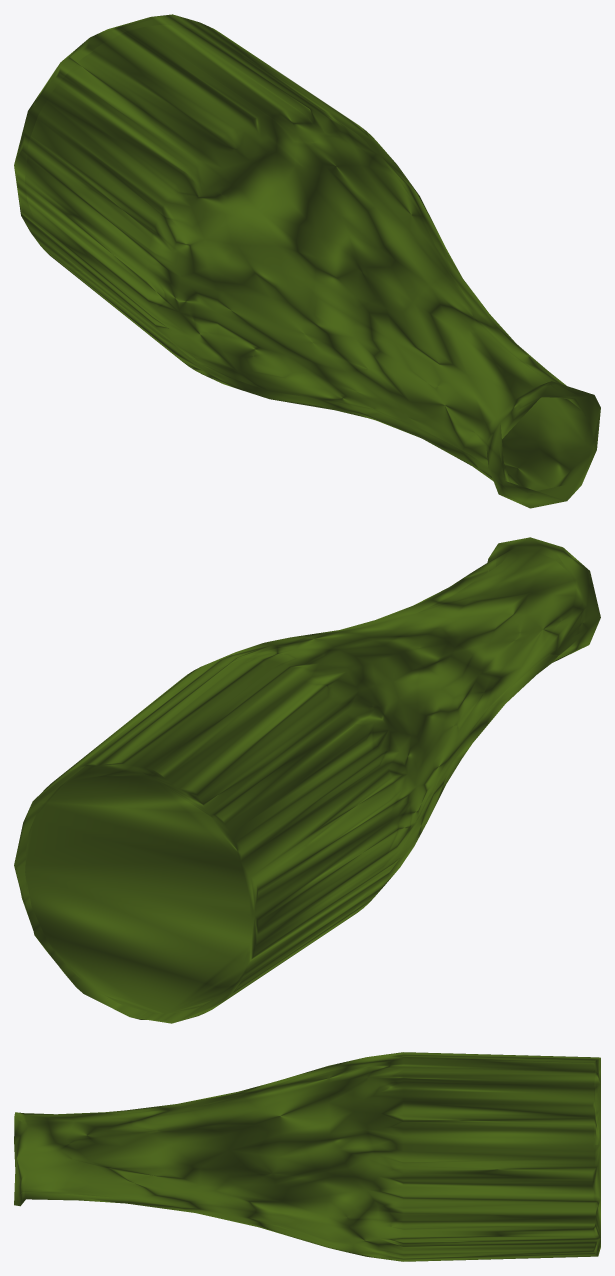
Rendered from model_align.obj.
3 renders of one model, top to bottom at view 1: azimuth 30°, elevation 25°; view 2: azimuth 150°, elevation 25°; view 3: azimuth 270°, elevation 25°, orthographic. The views are drawn at different scales.
Size of the model in its own units: 0.0976 by 0.0976 by 0.2733.
